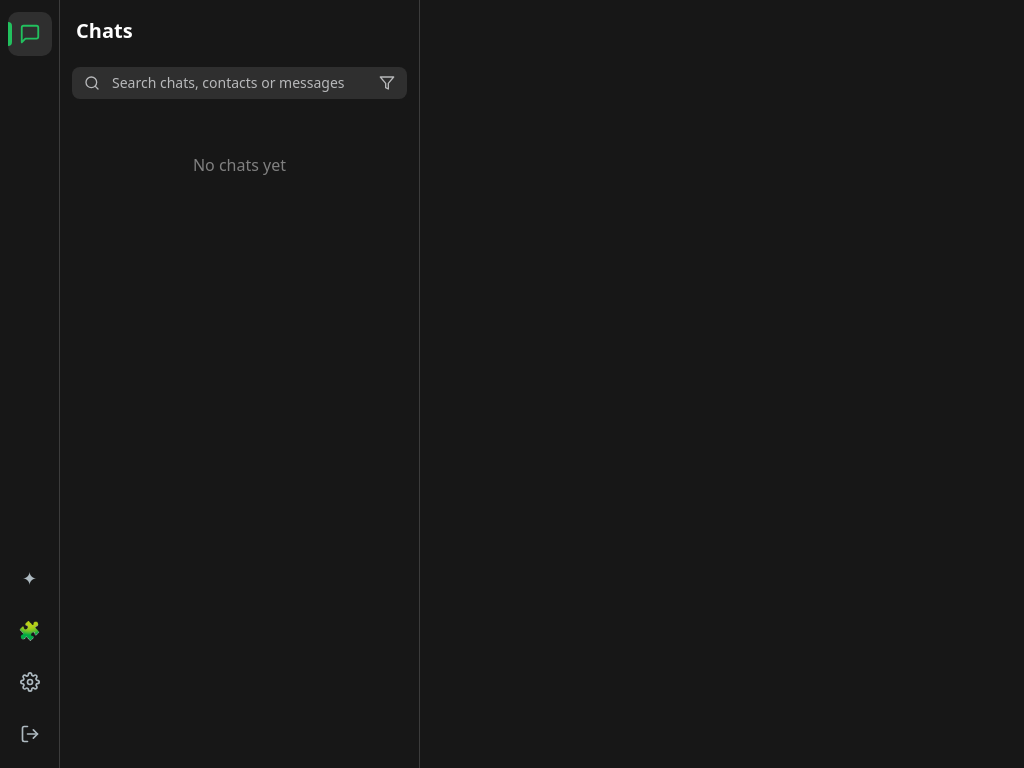
ChatList indexing (B-UICHAT-14) › clears progress and shows a toast when indexEmbeddings rejects (B-APP-04)
The image size is (1024, 768).
Click the button titled "Index for Semantic Search" at {"x": 30, "y": 578}, box [8,556,52,600]
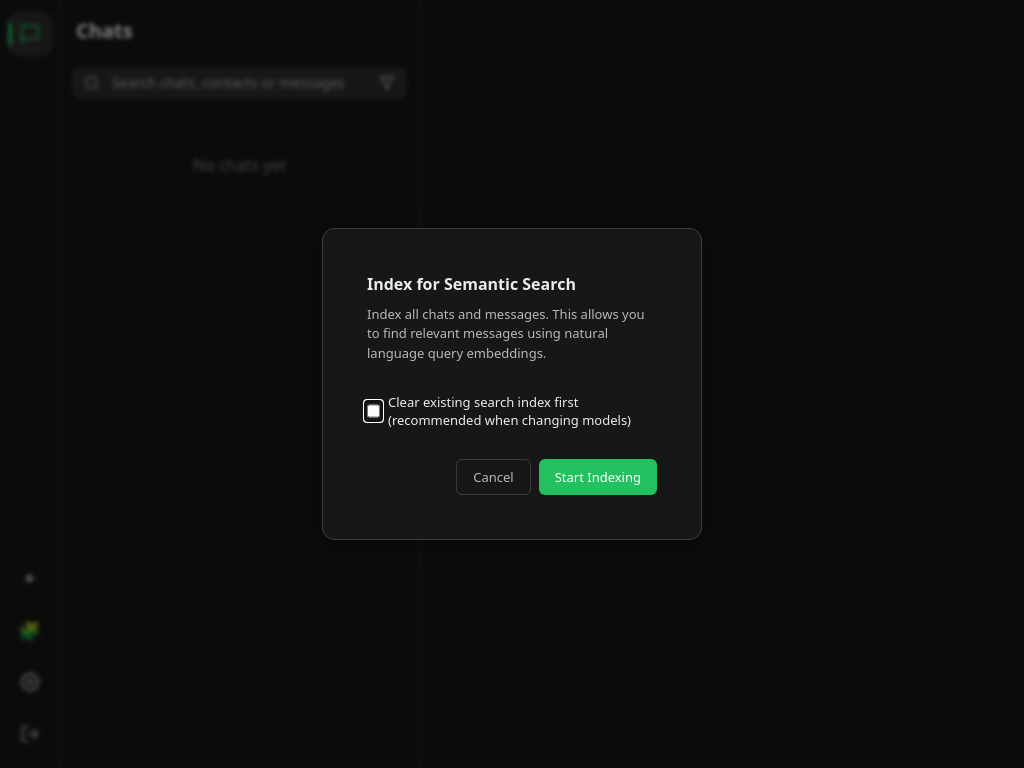
Click the button "Start Indexing" at {"x": 598, "y": 477}, box [539,459,657,495]
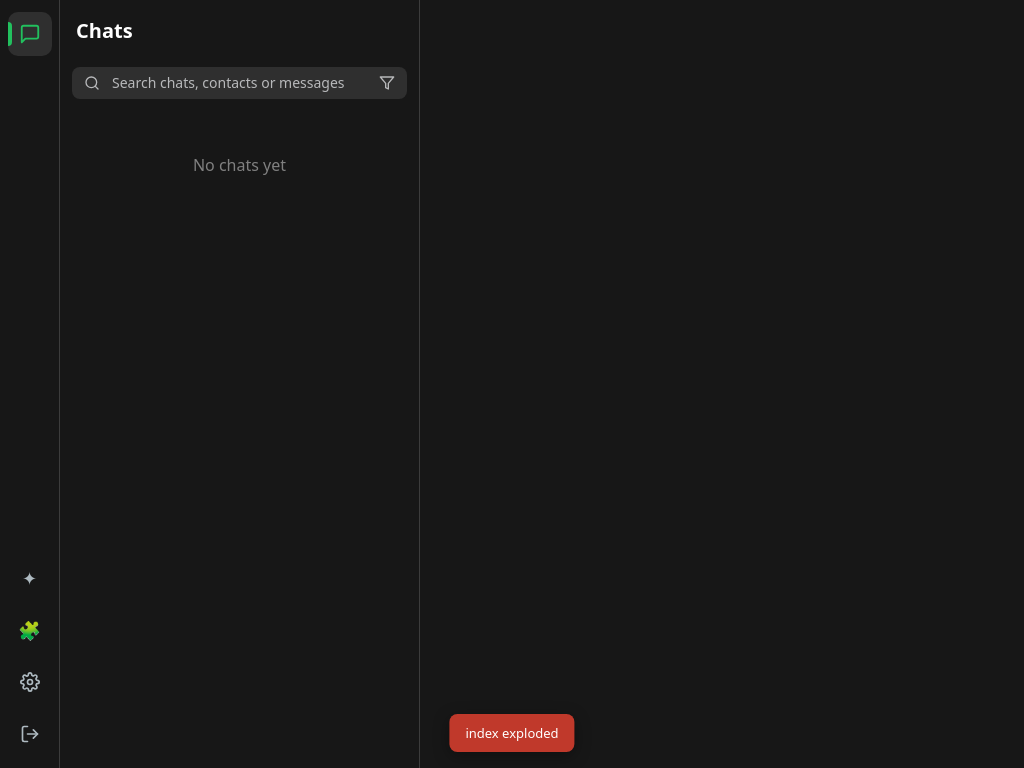
Check: the message reads "index exploded", box [465,724,559,742]
